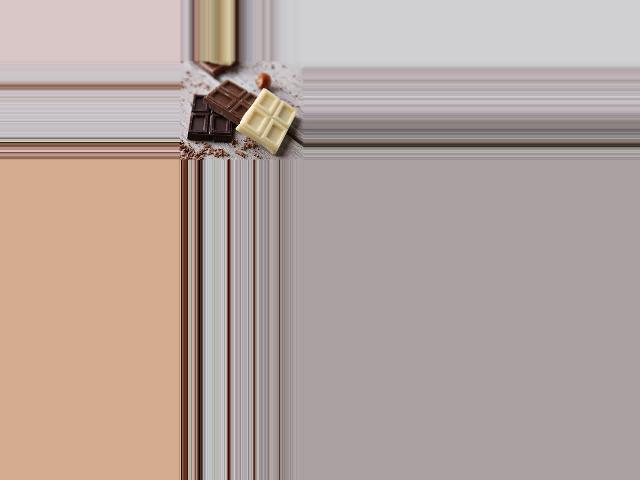chocolate: (182, 79, 296, 147)
